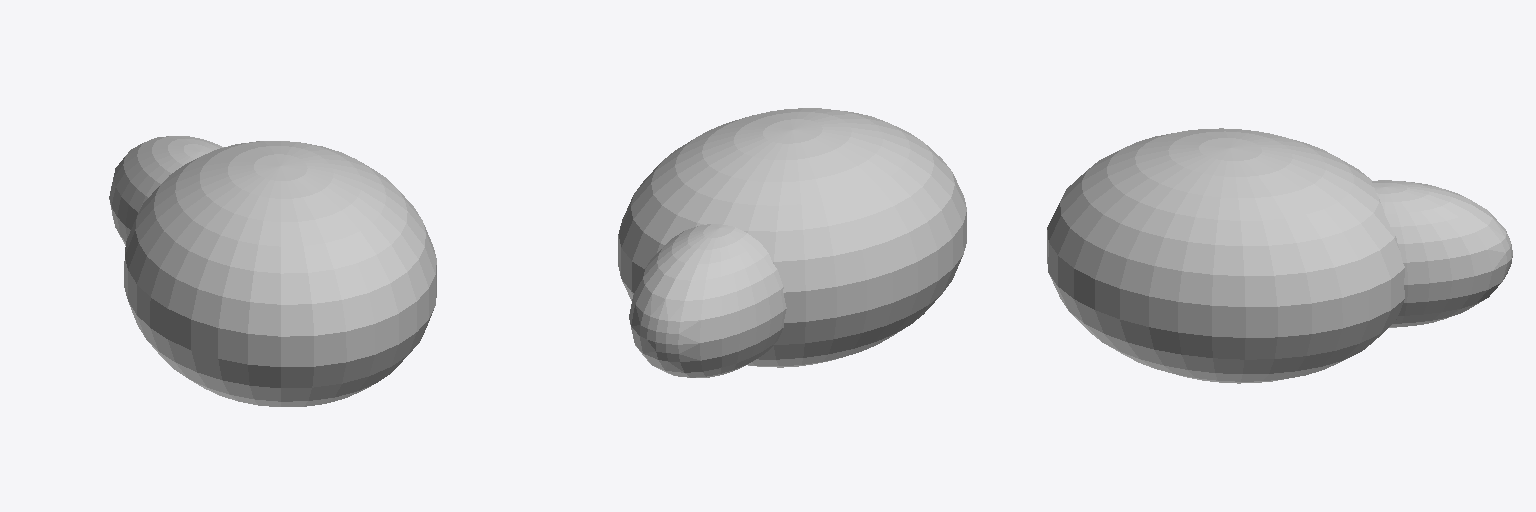
The model's file is HEAD_SIMPLE.obj.
The picture shows the model from 3 angles: view 1: azimuth 30°, elevation 25°; view 2: azimuth 150°, elevation 25°; view 3: azimuth 270°, elevation 25°; orthographic projection.
Bounding box in the file's own units: 0.1907 × 0.1427 × 0.279.